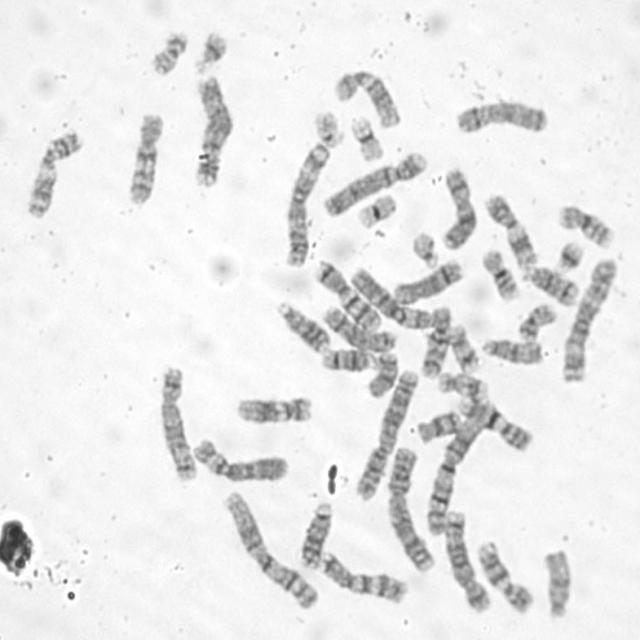A1: (421, 395, 530, 538), (220, 487, 320, 612)
A2: (352, 365, 422, 501), (384, 443, 437, 574)
A3: (558, 254, 620, 386), (280, 137, 331, 270)
B4: (318, 149, 429, 220), (189, 73, 234, 190)
B5: (443, 506, 493, 614), (156, 362, 199, 484)
C10: (122, 108, 166, 208), (417, 302, 453, 380)
C11: (23, 125, 84, 221), (481, 189, 539, 270)
C12: (330, 65, 403, 130), (232, 392, 316, 426)
C6: (348, 262, 435, 330), (189, 434, 291, 485)
C7: (316, 548, 409, 606), (313, 257, 382, 332)
C8: (319, 302, 398, 354), (390, 255, 464, 306)
C9: (475, 538, 535, 616), (457, 396, 536, 454)
D13: (273, 298, 332, 353), (296, 499, 334, 569)
D14: (518, 260, 582, 308), (318, 344, 377, 374)
D15: (540, 544, 572, 622), (480, 334, 544, 366)
E16: (554, 200, 618, 251), (478, 245, 522, 303)
E17: (447, 321, 481, 375), (434, 368, 490, 399)
E18: (414, 406, 462, 446), (367, 354, 400, 399)
F19: (347, 112, 386, 164), (354, 190, 398, 230)
F20: (147, 27, 190, 77), (516, 299, 558, 341)
G21: (191, 28, 230, 76), (552, 237, 586, 274)
G22: (310, 107, 344, 149), (409, 227, 441, 269)
X: (452, 97, 550, 136), (438, 165, 478, 251)
